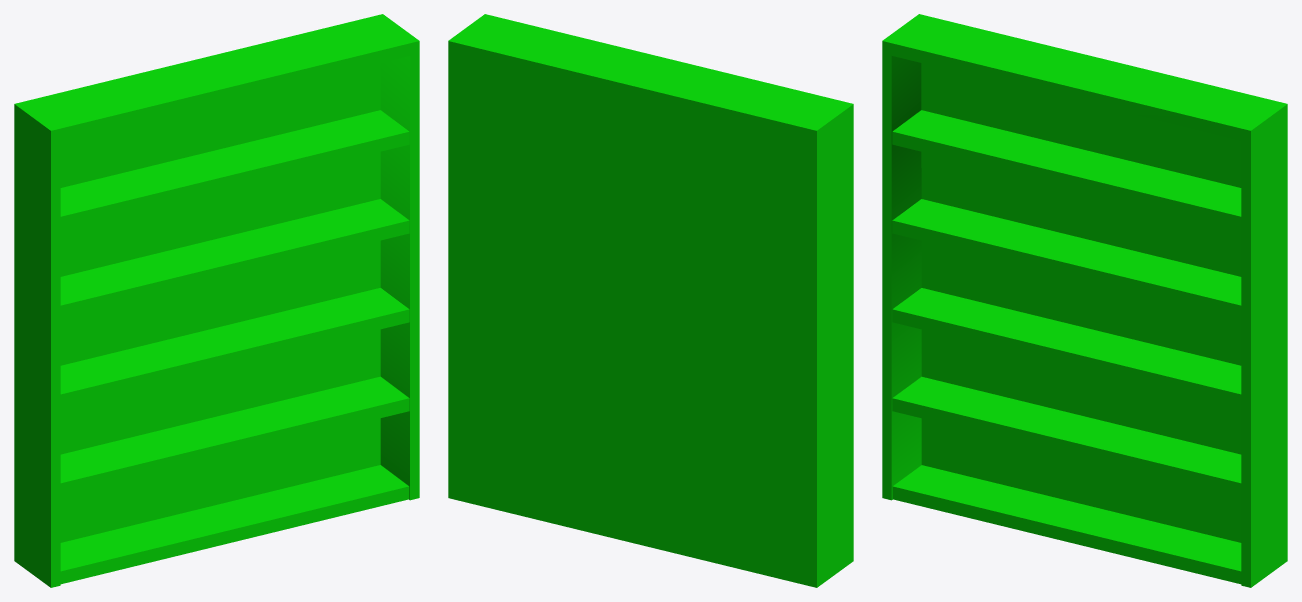
File: EstanteriaMueble01.fbx
3 views of the same model, side by side, from view 1: azimuth 30°, elevation 25°; view 2: azimuth 150°, elevation 25°; view 3: azimuth 330°, elevation 25° (orthographic).
Visible parts, largest first — view 1: pCube261; view 2: pCube261; view 3: pCube261.
Boxes of the visible parts, x1,y1,x2,y2 form: pCube261: (14, 14, 419, 587); pCube261: (448, 14, 853, 587); pCube261: (882, 14, 1287, 587).
Size of the model in its own units: 1.81 by 2.15 by 0.3137.
